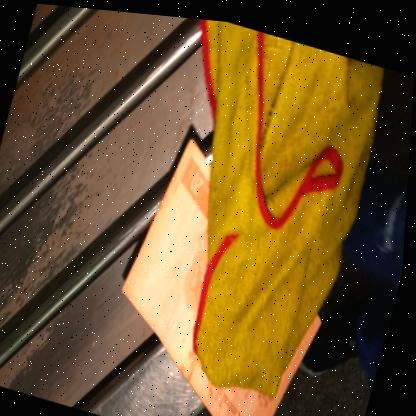vef_back: (93, 120, 361, 416)
